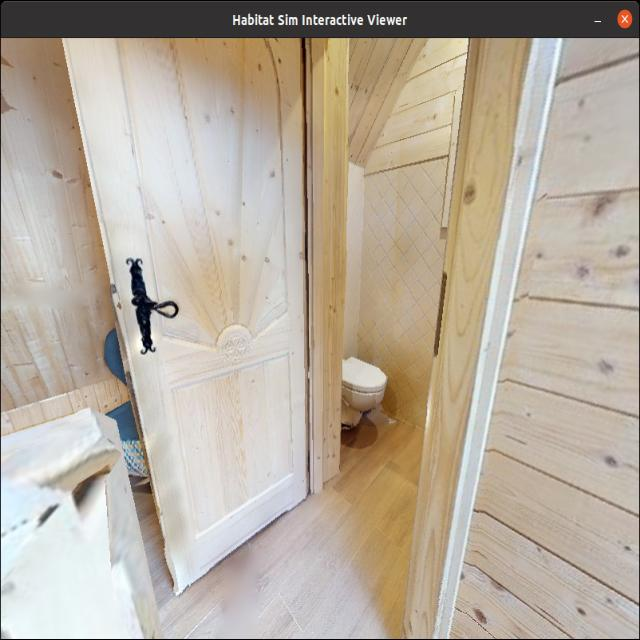door: (66, 41, 311, 569)
door-frame: (306, 42, 487, 638)
toilet: (323, 335, 393, 464)
